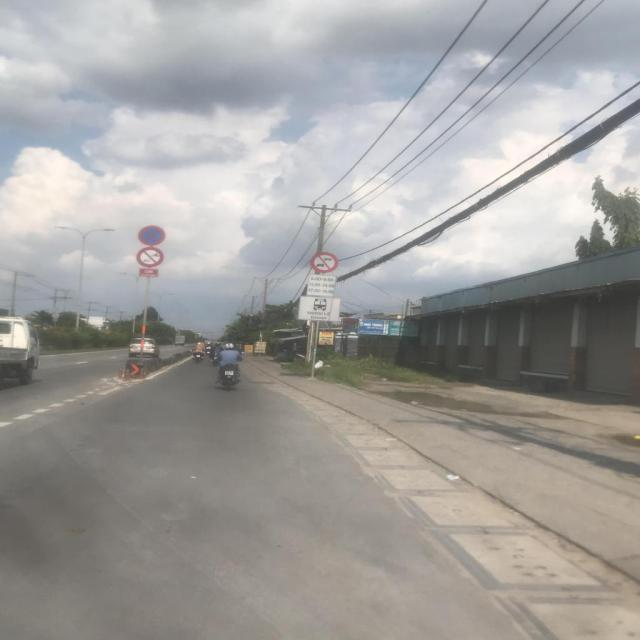cam_dung_xe_va_do_xe: (139, 226, 166, 246)
cam_o_to_tai_va_xe_khach: (310, 252, 338, 273)
cam_xe_2_banh_va_xe_3_banh_co_dong_co: (136, 247, 164, 268)
khac: (298, 296, 342, 322), (306, 275, 336, 297)
